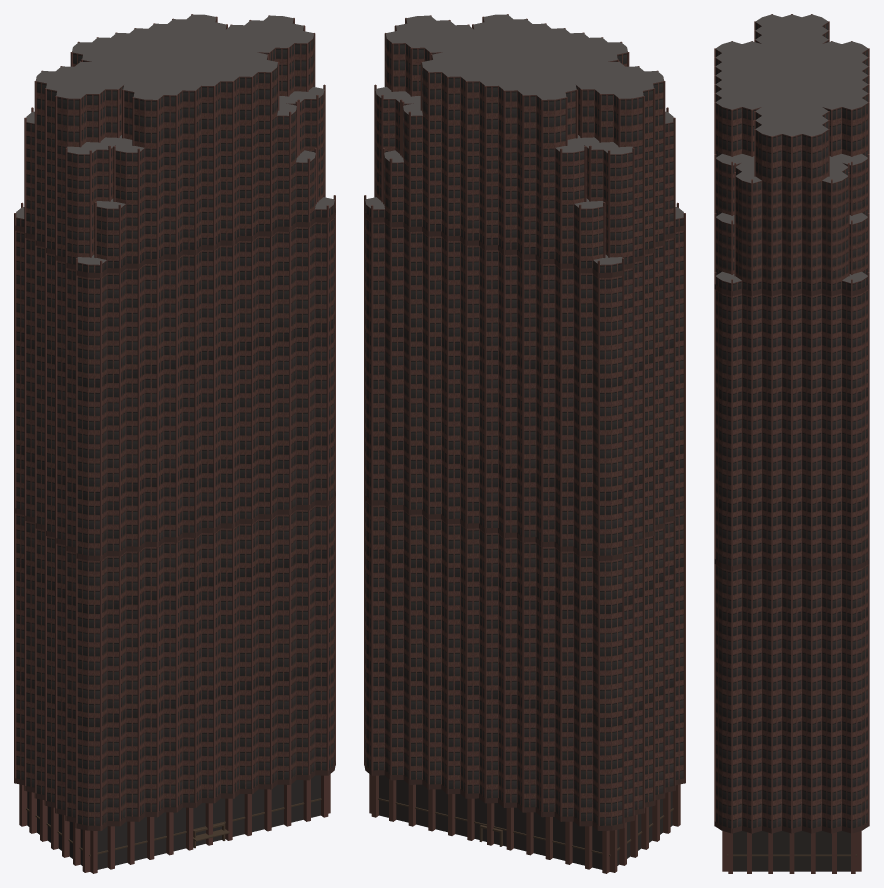
The model's file is bank_of_america_555_california.glb.
3 renders of one model, left to right at view 1: azimuth 30°, elevation 25°; view 2: azimuth 150°, elevation 25°; view 3: azimuth 270°, elevation 25°, orthographic. The views are drawn at different scales.
Visible parts, largest first — view 1: bank_of_america_555_california; view 2: bank_of_america_555_california; view 3: bank_of_america_555_california.
Part boxes in pixels (left/top/right/bottom): bank_of_america_555_california: left=14, top=14, right=335, bottom=873; bank_of_america_555_california: left=364, top=14, right=685, bottom=873; bank_of_america_555_california: left=714, top=14, right=869, bottom=873.
Bounding box in the file's own units: 84.6 × 237 × 45.1.
Materials: 2 (2 with a texture image).
